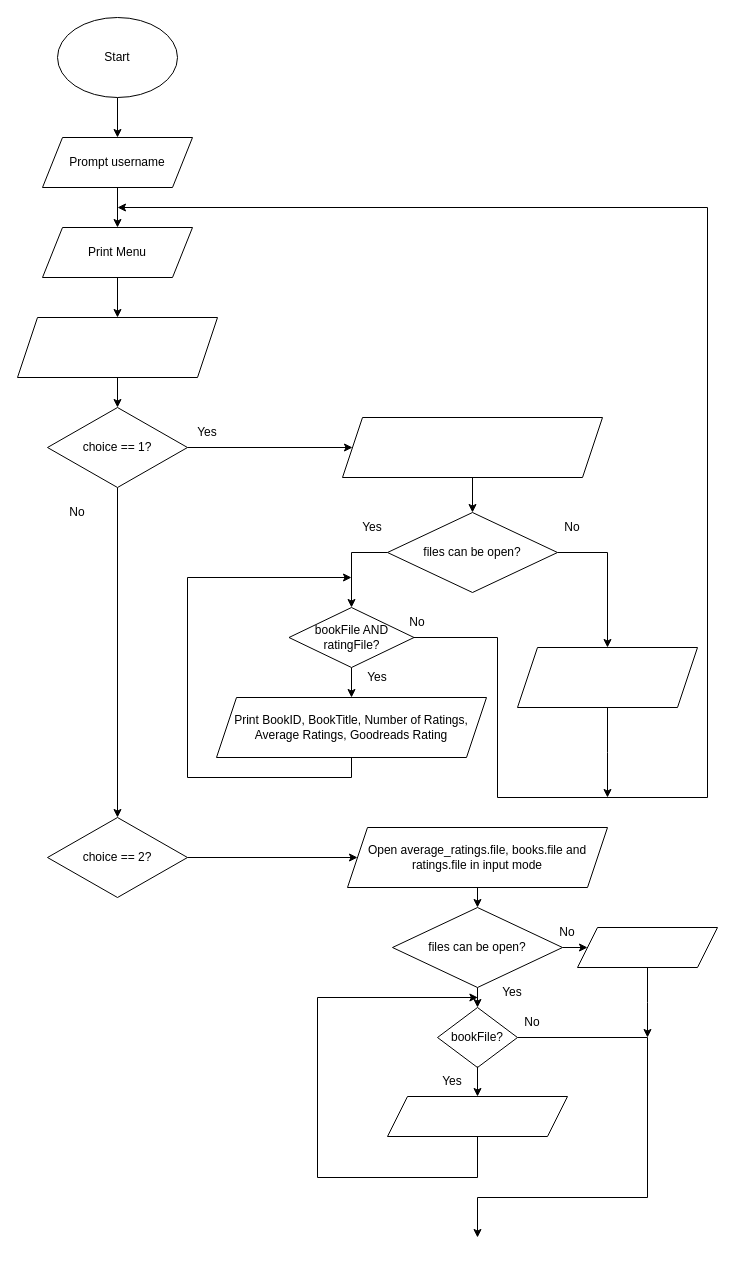
Some shapes in this 735 by 1263 pixel diagram are drawn without their labels. The shapes that lost their labels are listed below. From the top down, each one's centre as x and y in pixels, then its label:
At [117,347]: "Prompt user to enter a choice".
At [472,447]: "Open average_ratings.file and books.file in input mode".
At [607,677]: "Print error opening the average ratings file or books file.".
At [647,947]: "Print error opening the books file.".
At [477,1116]: "Print BookID and BookTitle".
